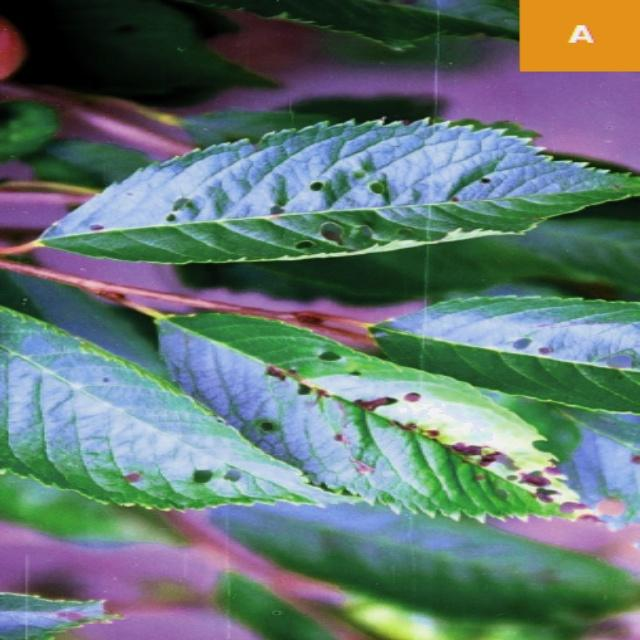shot_hole: (93, 34, 551, 292), (121, 283, 578, 541), (0, 308, 320, 539)
